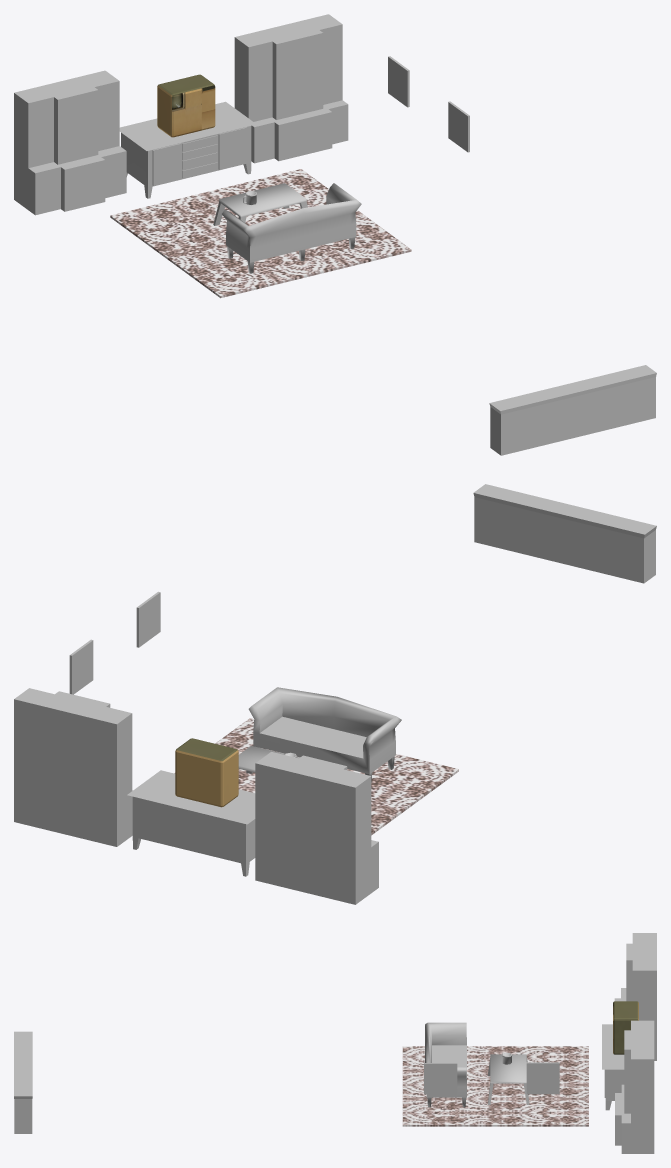
File: Asset Main Building_V2.fbx_Ruang_TV.fbx
3 renders of one model, top to bottom at view 1: azimuth 30°, elevation 25°; view 2: azimuth 150°, elevation 25°; view 3: azimuth 270°, elevation 25°, orthographic. The views are drawn at different scales.
Visible parts, largest first — view 1: Carpet, Bookcase_02.002, Bookcase_01, Armchair_06.001, Bookcase, Bookcase.001, Chest_drawers_05.001, TV, Meja_Halaman.002, Chest_drawers_05.003, Chest_drawers_05.008, Painting (+1 smaller); view 2: Bookcase_02.002, Bookcase_01, Armchair_06.001, Chest_drawers_05.001, Bookcase, Bookcase.001, Carpet, TV, Painting, Painting_06; view 3: Carpet, Bookcase_02.002, Bookcase_01, Armchair_06.001, Bookcase.001, Chest_drawers_05.001, Meja_Halaman.002, Painting, Painting_06, TV, Bookcase.
Boxes of the visible parts, <box> form: Carpet: <box>110,169,411,298</box>; Bookcase_02.002: <box>234,14,348,163</box>; Bookcase_01: <box>14,70,126,215</box>; Armchair_06.001: <box>222,183,361,273</box>; Bookcase: <box>489,384,579,455</box>; Bookcase.001: <box>569,365,656,436</box>; Chest_drawers_05.001: <box>119,101,256,198</box>; TV: <box>157,74,215,137</box>; Meja_Halaman.002: <box>213,183,307,225</box>; Chest_drawers_05.003: <box>152,143,181,185</box>; Chest_drawers_05.008: <box>218,127,246,169</box>; Painting: <box>388,56,409,107</box>; Bookcase_02.002: <box>14,688,132,846</box>; Bookcase_01: <box>255,752,378,904</box>; Armchair_06.001: <box>248,687,401,782</box>; Chest_drawers_05.001: <box>127,770,255,876</box>; Bookcase: <box>558,505,656,583</box>; Bookcase.001: <box>473,484,571,562</box>; Carpet: <box>174,718,458,835</box>; TV: <box>175,738,238,807</box>; Painting: <box>69,639,93,694</box>; Painting_06: <box>136,591,160,647</box>; Carpet: <box>402,1046,588,1126</box>; Bookcase_02.002: <box>615,1020,654,1153</box>; Bookcase_01: <box>614,933,656,1060</box>; Armchair_06.001: <box>425,1022,466,1107</box>; Bookcase.001: <box>14,1063,32,1133</box>; Chest_drawers_05.001: <box>602,1024,624,1110</box>; Meja_Halaman.002: <box>488,1054,529,1104</box>; Painting: <box>526,1062,559,1094</box>; Painting_06: <box>424,1063,457,1094</box>; TV: <box>613,1001,638,1054</box>; Bookcase: <box>14,1031,32,1064</box>.
Size of the model in its own units: 4921 by 1677 by 10189.
